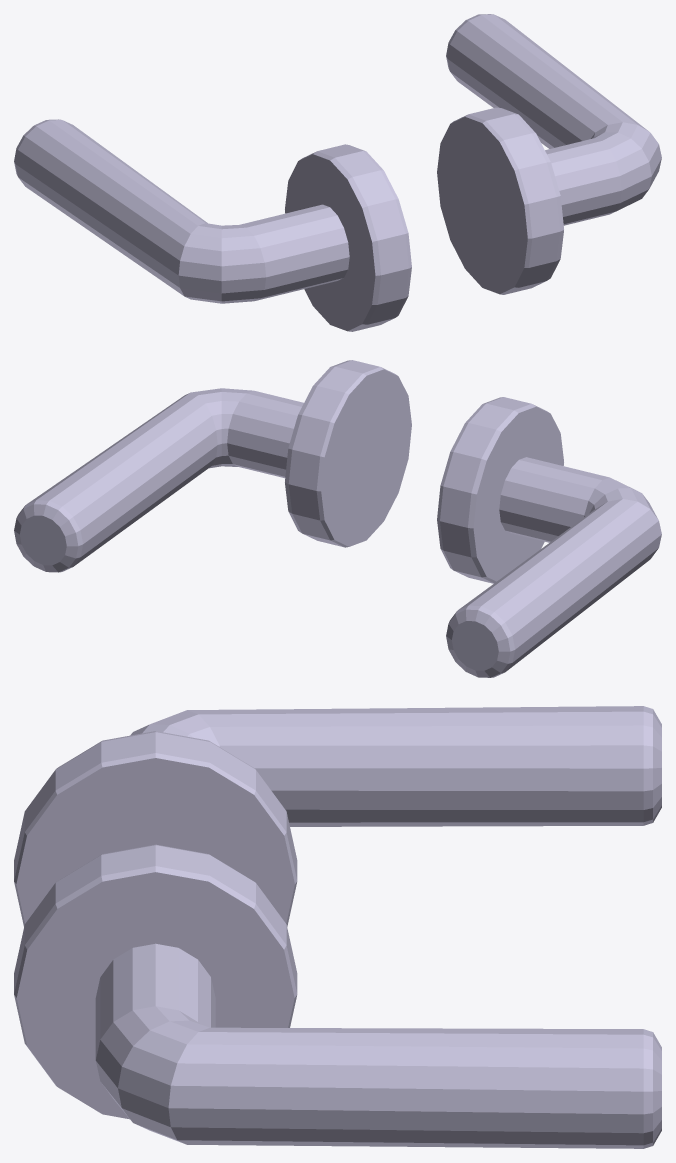
The model's file is DoorHandle.fbx.
3 renders of one model, top to bottom at view 1: azimuth 30°, elevation 25°; view 2: azimuth 150°, elevation 25°; view 3: azimuth 270°, elevation 25°, orthographic. The views are drawn at different scales.
Visible parts, largest first — view 1: DoorHandles; view 2: DoorHandles; view 3: DoorHandles.
Boxes of the visible parts, x1,y1,x2,y2 form: DoorHandles: (14, 14, 661, 331); DoorHandles: (14, 360, 661, 677); DoorHandles: (14, 706, 661, 1148).
Size of the model in its own units: 37.9 by 12.15 by 27.77.
